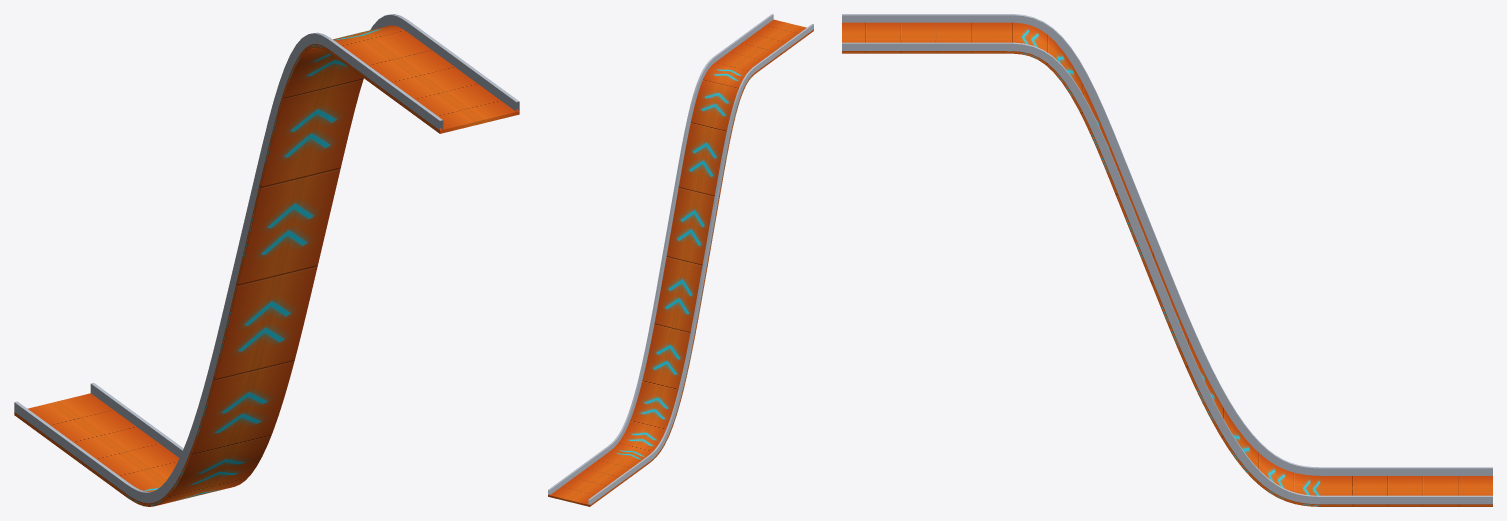
The model's file is steep-ramp-70.glb.
3 renders of one model, left to right at view 1: azimuth 30°, elevation 25°; view 2: azimuth 150°, elevation 25°; view 3: azimuth 270°, elevation 25°, orthographic. The views are drawn at different scales.
Bounding box in the file's own units: 3 × 21.8 × 27.76.
Materials: 4 (3 with a texture image).
